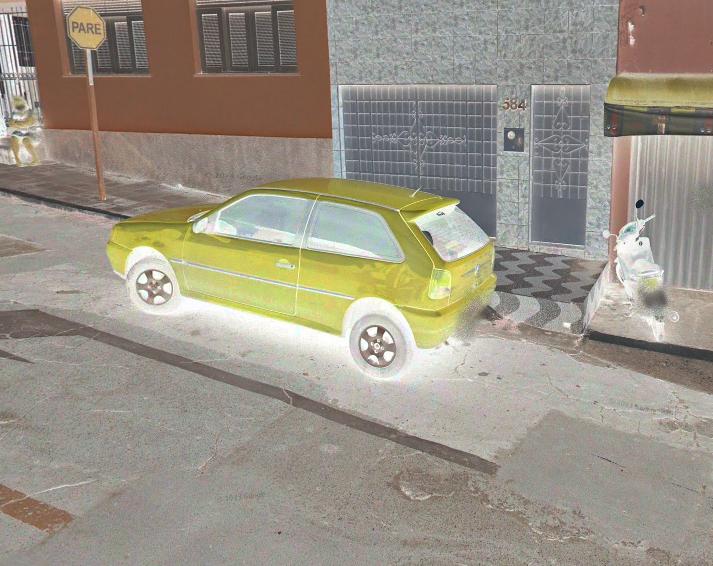car: (97, 167, 504, 401)
